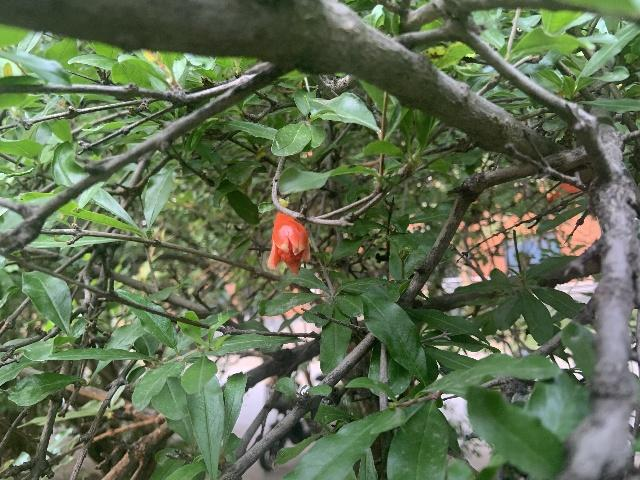flower: (266, 210, 310, 275)
